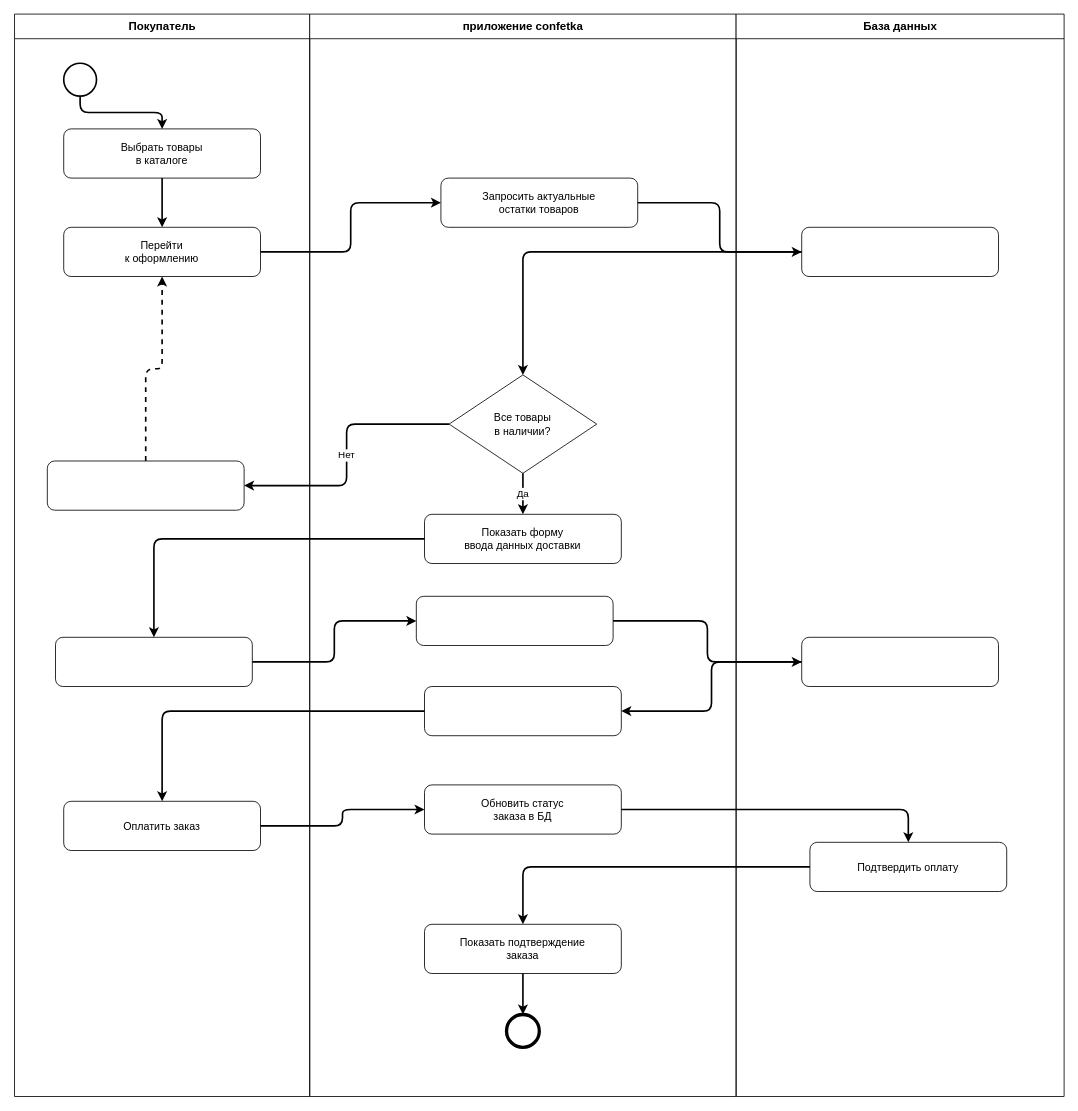
Some shapes in this 1078 by 1111 pixel diagram are drawn without their labels. The shapes that lost their labels are listed below. From the top down, each one's centre as x and y in pixels, then its label:
At pixel 900 251: "Проверить наличие и остатки товаров".
At pixel 145 485: "Изменить состав корзины".
At pixel 514 620: "Создать запись о заказе в БД".
At pixel 153 661: "Заполнить данные доставки".
At pixel 900 661: "Сохранить заказ".
At pixel 522 711: "Перенаправить на страницу оплаты".
